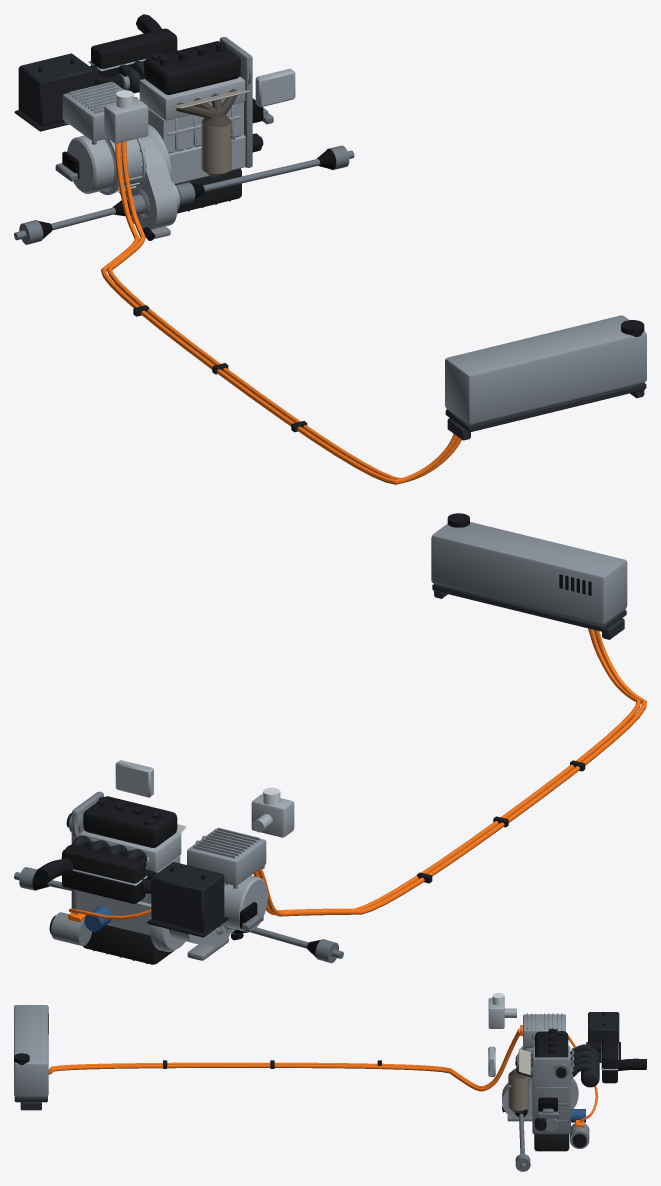
Rendered from pt_ehev.glb.
3 views of the same model, one above another, from view 1: azimuth 30°, elevation 25°; view 2: azimuth 150°, elevation 25°; view 3: azimuth 270°, elevation 25° (orthographic). The views are drawn at different scales.
Parts seen in each view (by area): view 1: H_IPU_Lid, H_Bay, H_Case, H_HV_Cable, H_Eng_Cover, H_Eng_BlockR, H_Eng_Exhaust, H_PCU, H_Eng_Head, H_ShaftR, H_IPU, H_ShaftL (+3 smaller); view 2: H_IPU_Lid, H_Bay, H_HV_Cable, H_Eng_Cover, H_Case, H_PCU, H_Eng_Pan, H_IPU, H_Eng_BlockF, H_EComp, H_Eng_Head, H_ShaftL (+2 smaller); view 3: H_IPU_Lid, H_Bay, H_HV_Cable, H_Eng_Front, H_Eng_Exhaust, H_Eng_Cover, H_Eng_Intake, H_PCU, H_Eng_Pan, H_Case, H_EComp, H_ShaftR (+2 smaller).
Part boxes in pixels (x1,y1,x2,y2): H_IPU_Lid: (445, 315, 646, 424); H_Bay: (14, 14, 295, 143); H_Case: (67, 124, 180, 238); H_HV_Cable: (101, 141, 461, 484); H_Eng_Cover: (144, 41, 240, 94); H_Eng_BlockR: (152, 102, 245, 184); H_Eng_Exhaust: (174, 89, 249, 177); H_PCU: (62, 82, 144, 144); H_Eng_Head: (139, 76, 245, 120); H_ShaftR: (175, 145, 354, 204); H_IPU: (445, 382, 646, 440); H_ShaftL: (14, 194, 145, 244); H_IPU_Lid: (431, 513, 627, 624); H_Bay: (35, 760, 294, 937); H_HV_Cable: (253, 628, 646, 916); H_Eng_Cover: (66, 796, 177, 847); H_Case: (150, 875, 267, 960); H_PCU: (187, 827, 266, 888); H_Eng_Pan: (83, 906, 174, 964); H_IPU: (432, 583, 626, 639); H_Eng_BlockF: (78, 864, 168, 935); H_EComp: (49, 908, 151, 946); H_Eng_Head: (79, 830, 181, 872); H_ShaftL: (230, 927, 343, 963); H_IPU_Lid: (14, 1005, 48, 1097); H_Bay: (488, 993, 646, 1083); H_HV_Cable: (48, 1028, 520, 1091); H_Eng_Front: (532, 1057, 570, 1134); H_Eng_Exhaust: (507, 1049, 533, 1112); H_Eng_Cover: (535, 1028, 569, 1079); H_Eng_Intake: (570, 1043, 599, 1087); H_PCU: (520, 1013, 565, 1050); H_Eng_Pan: (534, 1109, 585, 1151); H_Case: (502, 1046, 578, 1121); H_EComp: (568, 1035, 598, 1148); H_ShaftR: (514, 1109, 530, 1171).
Size of the model in its own units: 1.48 by 0.677 by 3.54.
